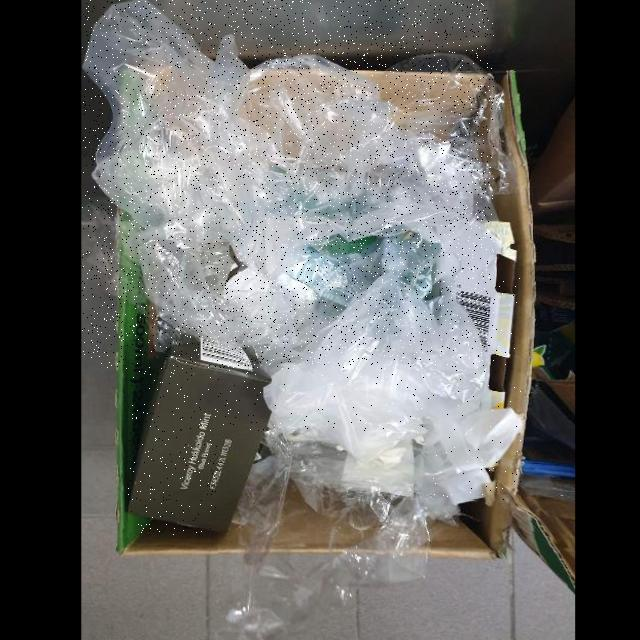paper: (128, 338, 270, 535)
plastic: (83, 0, 494, 369), (262, 276, 521, 500), (219, 432, 431, 639)
